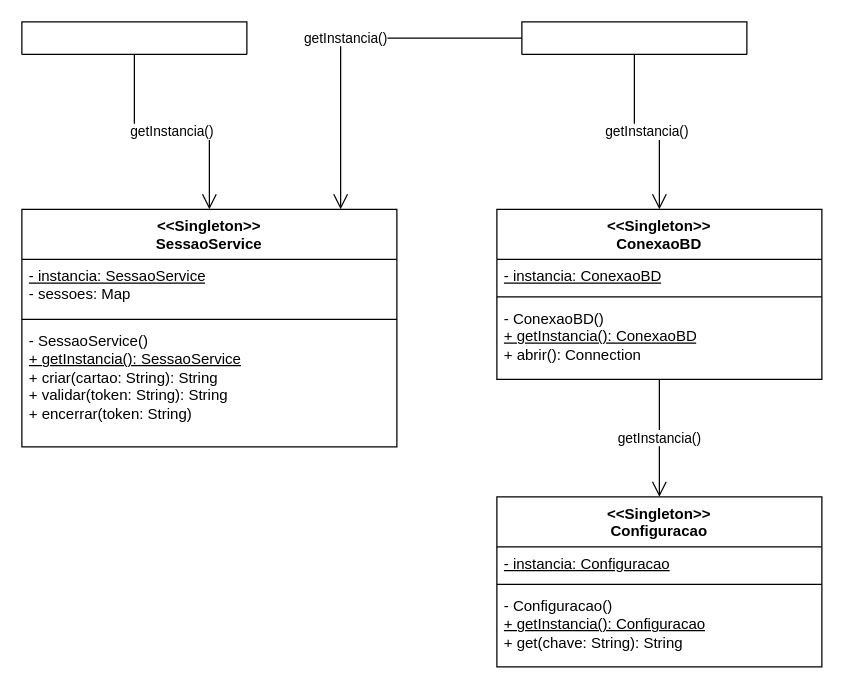
Image size: 844x693. Some labels were removed from this diagram. Each missing label, with the centre of its shape:
ApiController: pixel 134 37
ContaService: pixel 634 37
